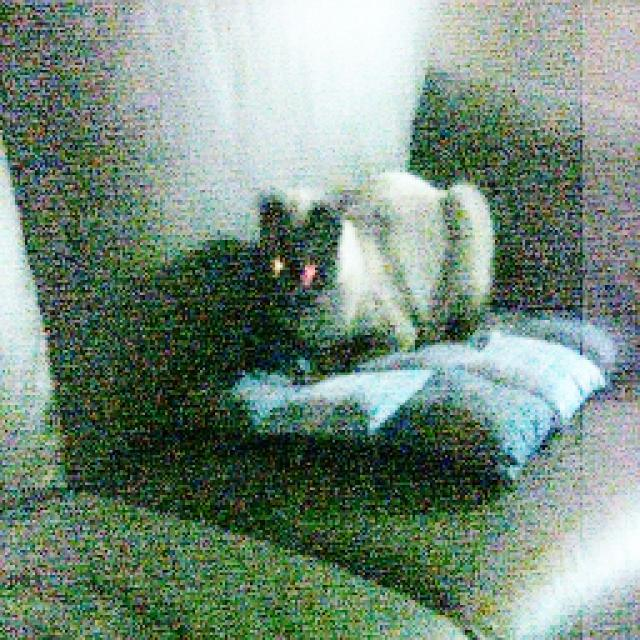cat: (197, 123, 524, 388)
